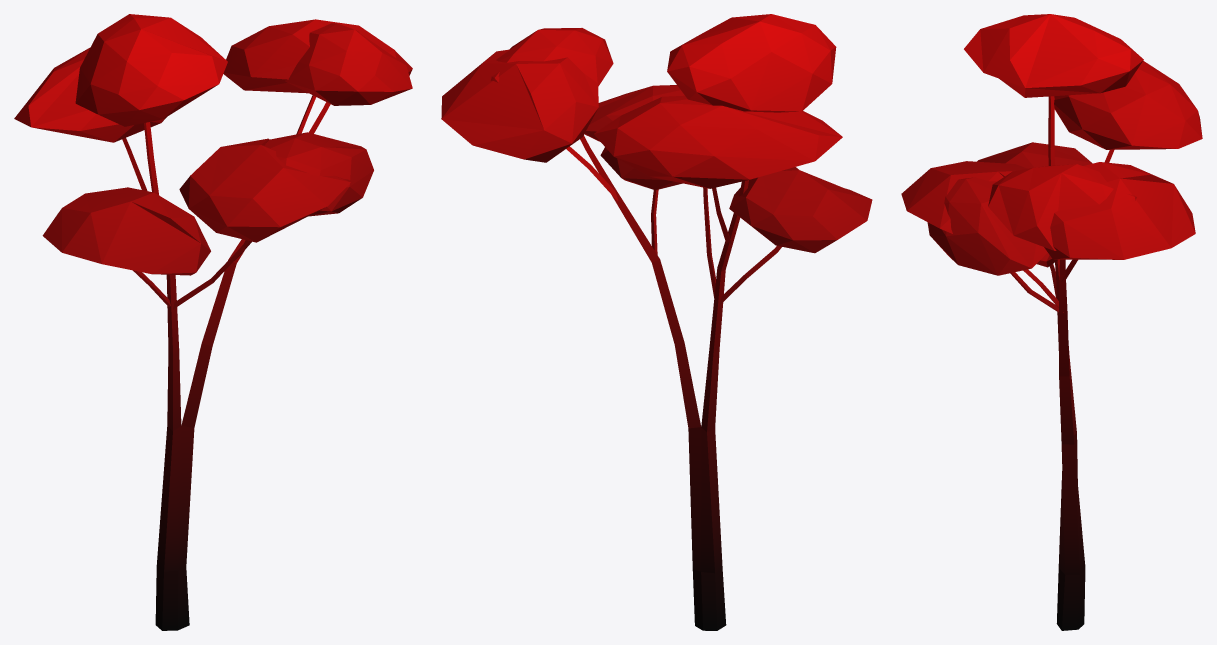
Rendered from TreeCedar06.fbx.
3 views of the same model, side by side, from view 1: azimuth 30°, elevation 25°; view 2: azimuth 150°, elevation 25°; view 3: azimuth 270°, elevation 25° (orthographic). The views are drawn at different scales.
Parts seen in each view (by area): view 1: TreeCedar06_LOD0; view 2: TreeCedar06_LOD0; view 3: TreeCedar06_LOD0.
Boxes of the visible parts, box(x1,y1,x2,y2) form: TreeCedar06_LOD0: box(14, 14, 412, 630); TreeCedar06_LOD0: box(441, 14, 872, 630); TreeCedar06_LOD0: box(901, 14, 1202, 630).
Size of what is drawn, in the model's own units: 582 by 897 by 414.
